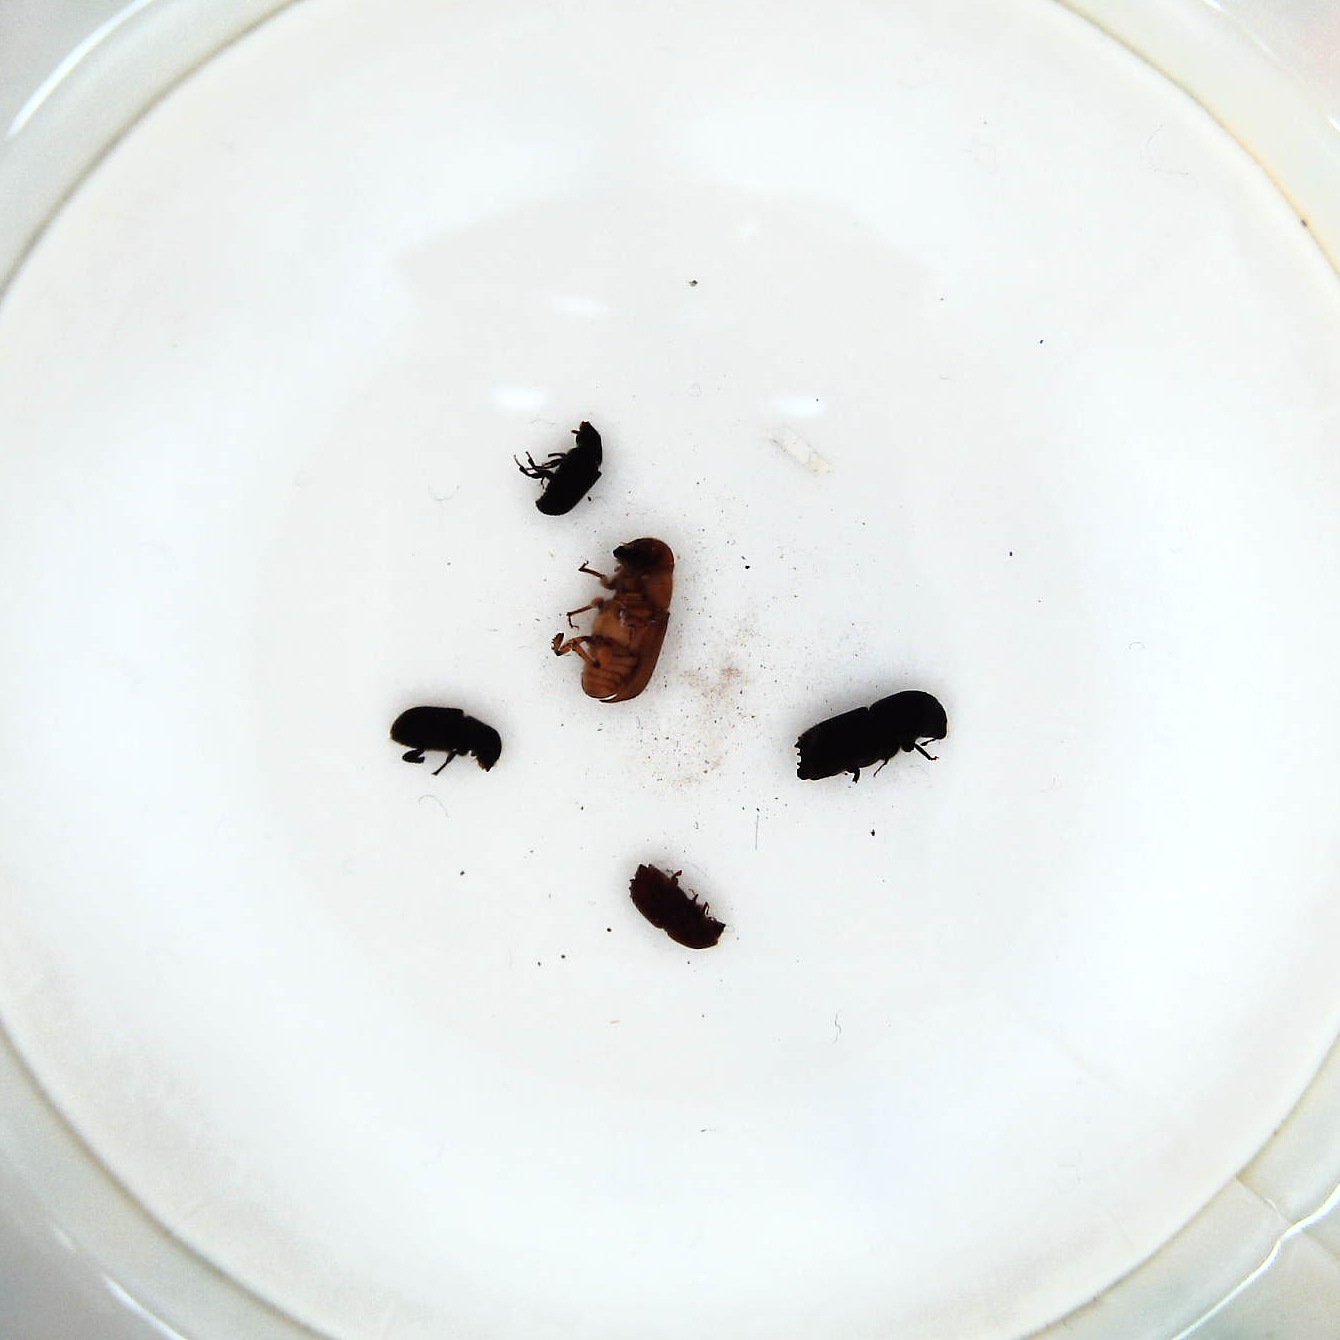Boerner: (795, 688, 953, 782)
Leconte: (549, 533, 683, 713)
armandi: (380, 704, 507, 777)
coleoptera: (517, 416, 610, 518)
linnaeus: (627, 855, 724, 960)
